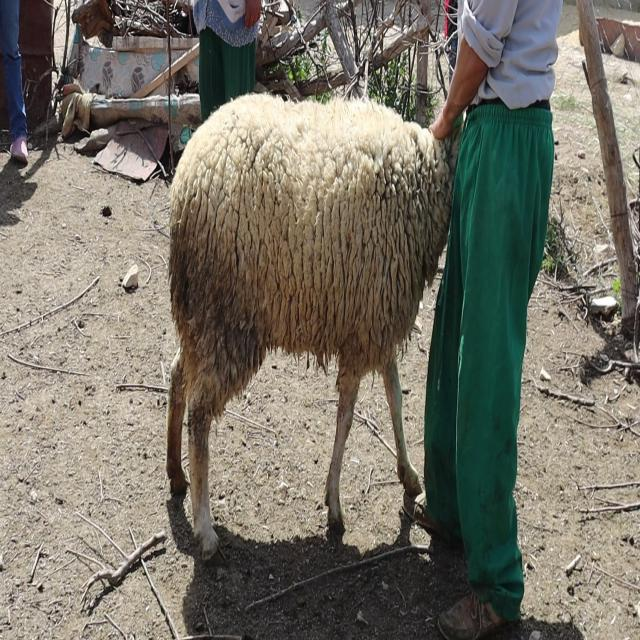Score_5: (166, 94, 462, 559)
